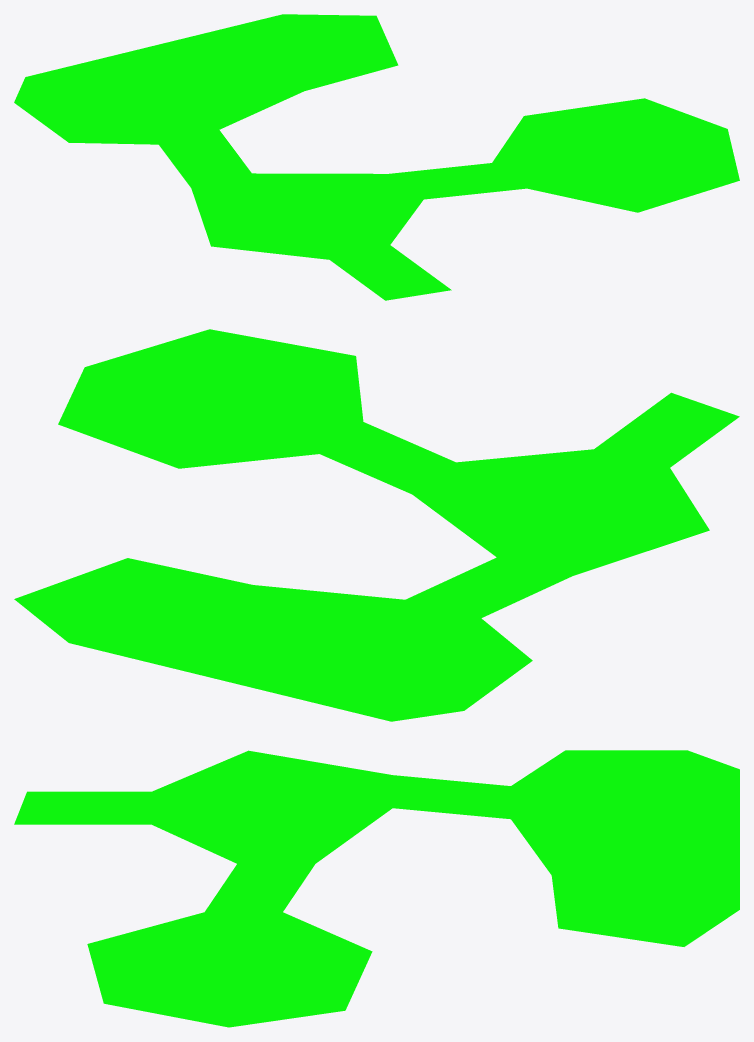
Rendered from s01a_nc2-floor.glb.
The picture shows the model from 3 angles, top to bottom: view 1: azimuth 30°, elevation 25°; view 2: azimuth 150°, elevation 25°; view 3: azimuth 270°, elevation 25°; orthographic projection. The views are drawn at different scales.
Visible parts, largest first — view 1: collision_floor-colonly; view 2: collision_floor-colonly; view 3: collision_floor-colonly.
Boxes of the visible parts, left/top/right/bottom form: collision_floor-colonly: left=14, top=14, right=739, bottom=300; collision_floor-colonly: left=14, top=329, right=739, bottom=721; collision_floor-colonly: left=14, top=750, right=739, bottom=1027.
Size of the model in its own units: 50.21 by 0 by 55.59.
